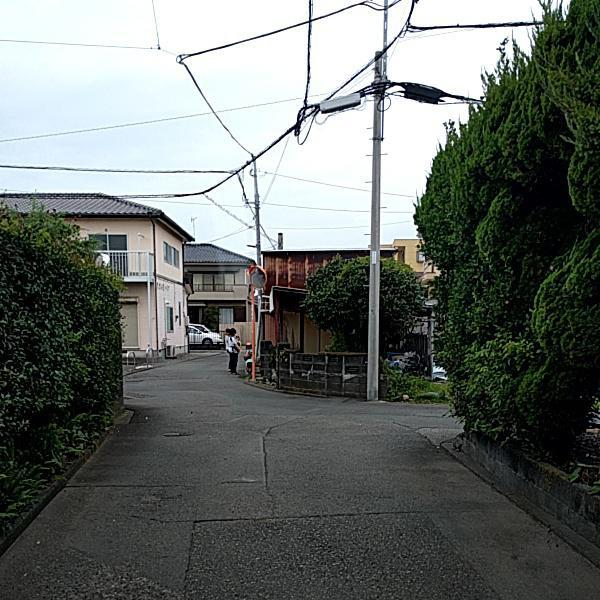D10: (72, 472, 202, 493), (126, 512, 191, 527), (218, 475, 263, 488)
